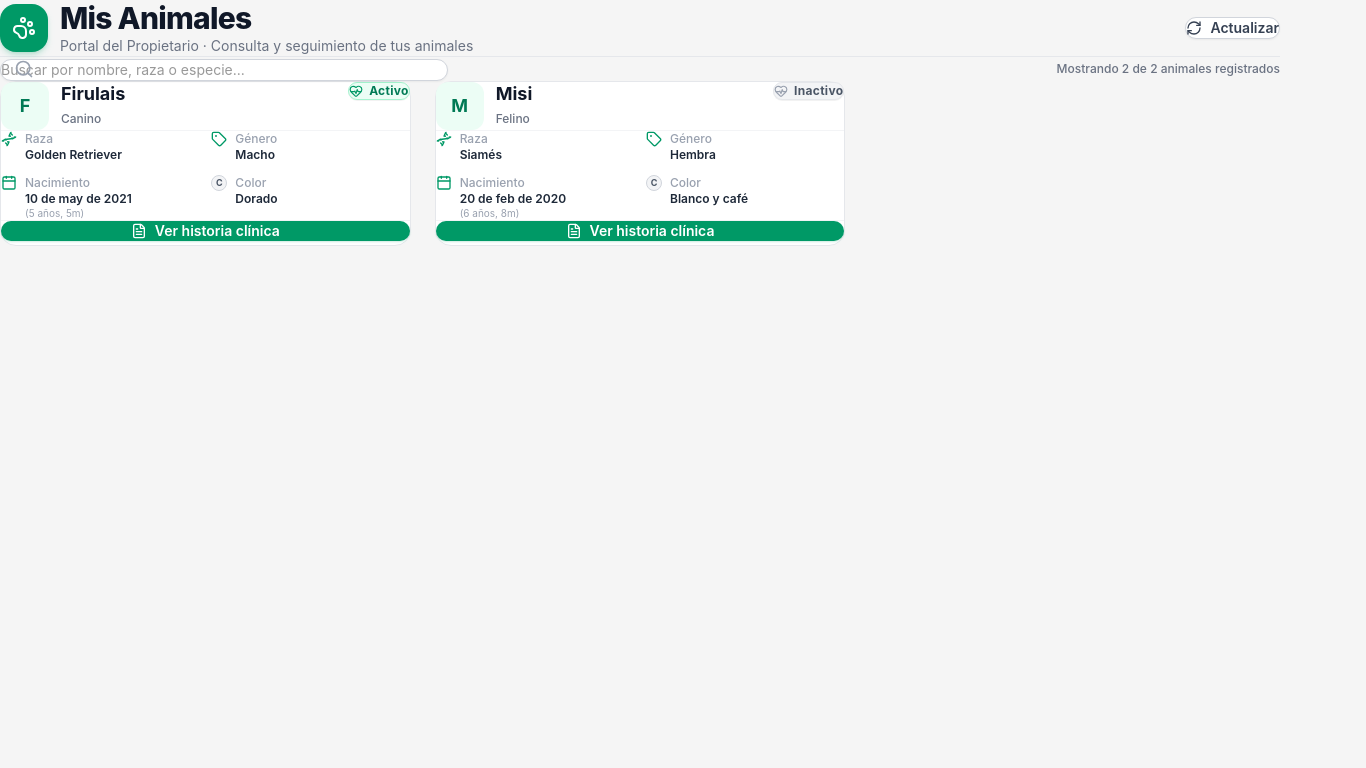
Test: MyAnimalsView Component Tests › debería abrir el modal de historia clínica al hacer clic en el botón de la tarjeta
The image size is (1366, 768).
Click the button "Ver historia clínica" below "5 años, 5m".
click(205, 231)  # box [1,221,410,241]
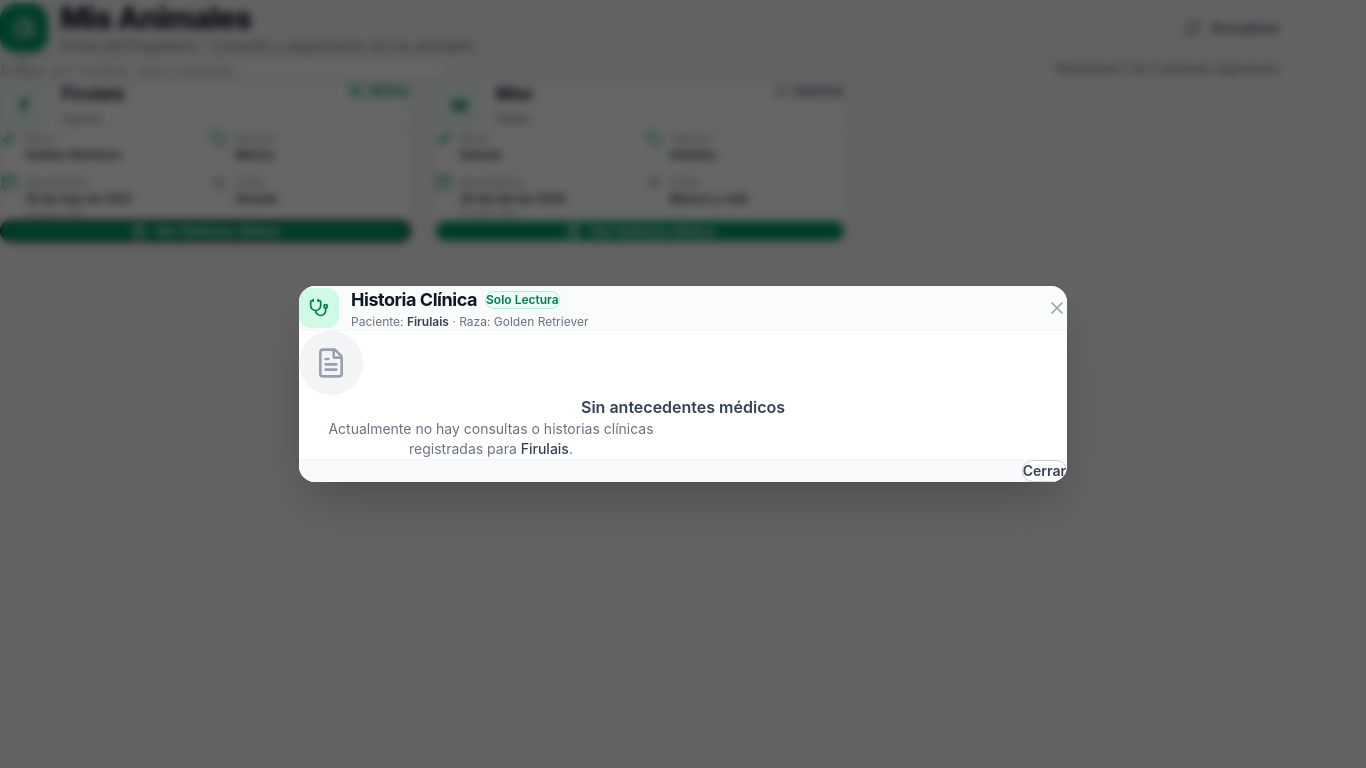
Expected: the heading "Historia Clínica" is shown, [351,286,477,314]
Expected: the text "Solo Lectura" is shown, [485,291,560,309]
